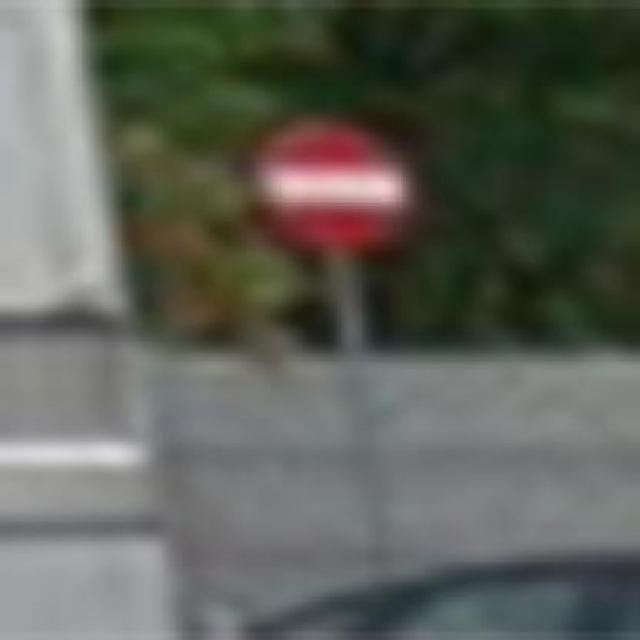Zakaz wjazdu: (251, 116, 414, 252)
